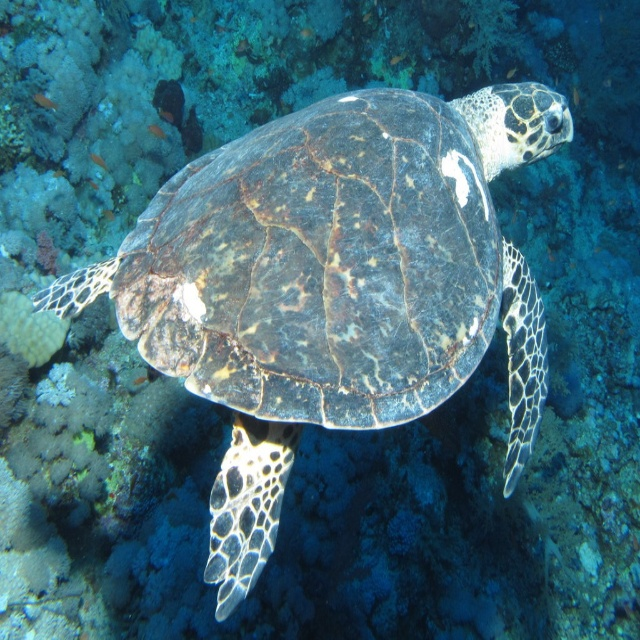Tortoise: (30, 81, 574, 623)
